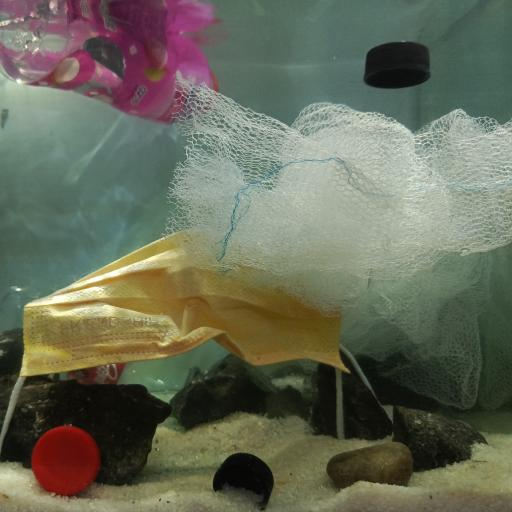bottle_cap: (30, 425, 102, 492), (214, 450, 274, 508), (365, 39, 428, 90)
mask: (21, 224, 353, 376)
net: (163, 67, 512, 414)
plastic_bottle: (0, 6, 222, 122), (2, 278, 204, 394)
